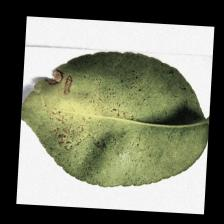canker: (42, 66, 92, 152)
